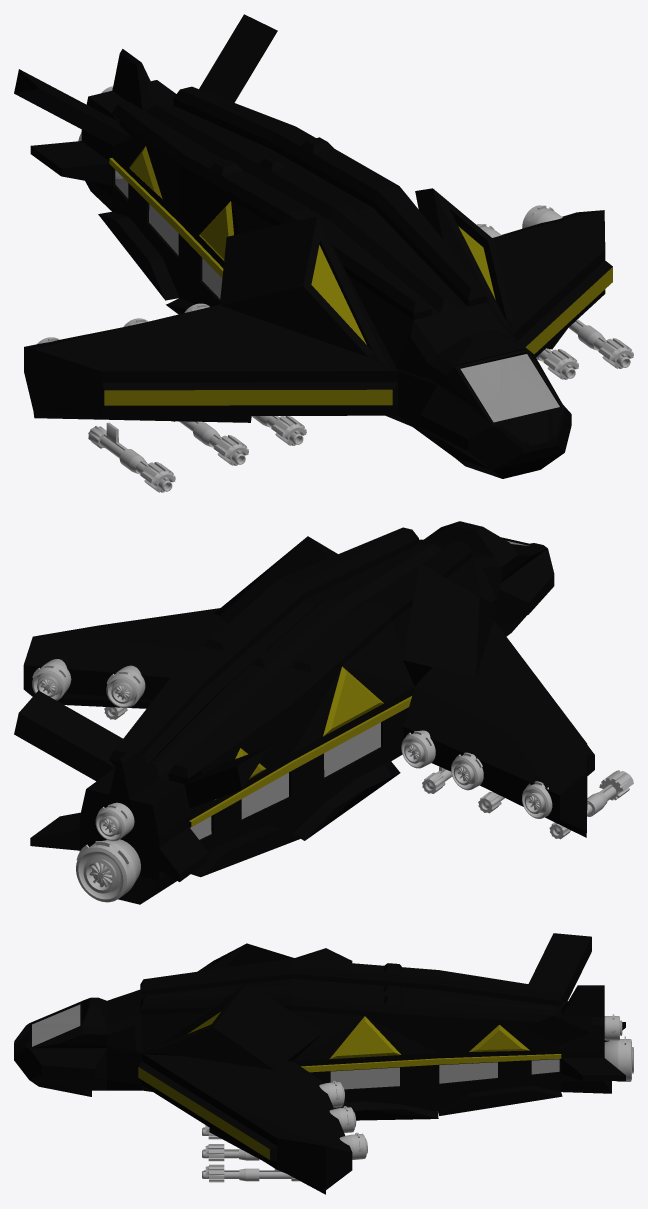
File: Nave Boladona O retorno.fbx
3 renders of one model, top to bottom at view 1: azimuth 30°, elevation 25°; view 2: azimuth 150°, elevation 25°; view 3: azimuth 270°, elevation 25°, orthographic. The views are drawn at different scales.
Parts seen in each view (by area): view 1: Tube_3; view 2: Tube_3; view 3: Tube_3.
Boxes of the visible parts, x1,y1,x2,y2 form: Tube_3: (14, 14, 633, 492); Tube_3: (14, 521, 633, 904); Tube_3: (14, 933, 633, 1194).
Size of the model in its own units: 1569 by 556 by 2080.
